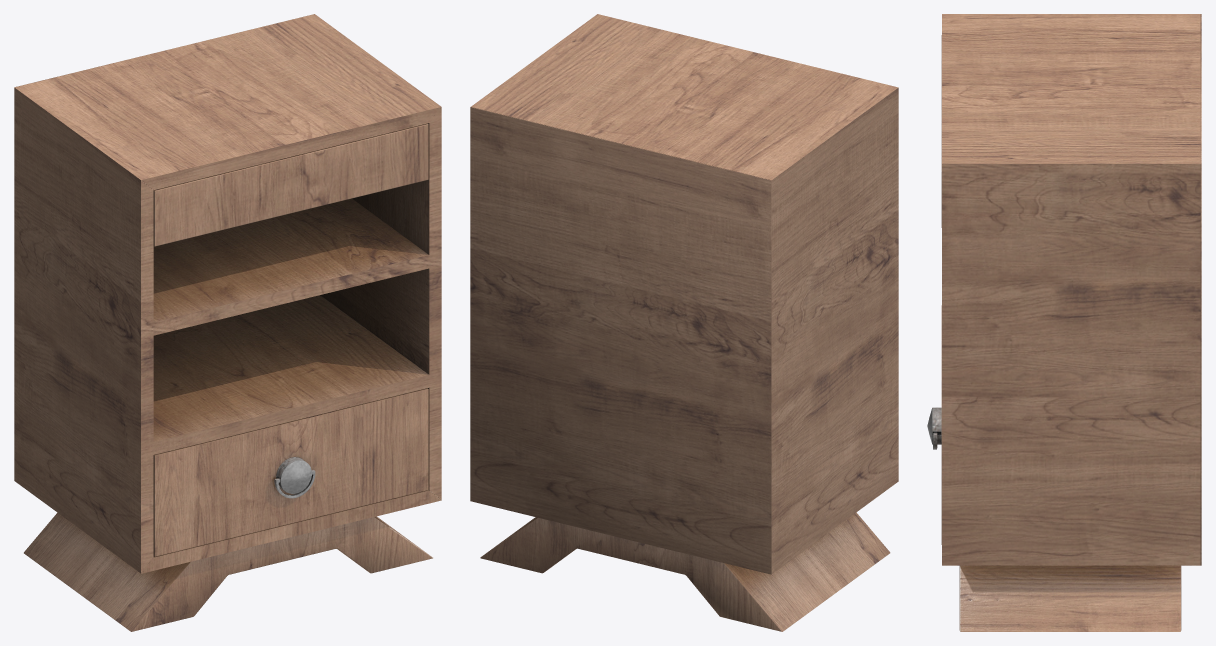
The model's file is captioning2.glb.
3 views of the same model, side by side, from view 1: azimuth 30°, elevation 25°; view 2: azimuth 150°, elevation 25°; view 3: azimuth 270°, elevation 25° (orthographic). The views are drawn at different scales.
Visible parts, largest first — view 1: Object001_Object001_mtl_0.001, Object001_Object001_mtl_0, Object001_Object001_mtl_0.002; view 2: Object001_Object001_mtl_0.002, Object001_Object001_mtl_0.001, Object001_Object001_mtl_0; view 3: Object001_Object001_mtl_0.001, Object001_Object001_mtl_0, Object001_Object001_mtl_0.002.
Part boxes in pixels (left/top/right/bottom): Object001_Object001_mtl_0.001: left=14, top=14, right=441, bottom=572; Object001_Object001_mtl_0: left=24, top=388, right=432, bottom=631; Object001_Object001_mtl_0.002: left=14, top=14, right=441, bottom=573; Object001_Object001_mtl_0.002: left=470, top=107, right=898, bottom=574; Object001_Object001_mtl_0.001: left=471, top=14, right=898, bottom=573; Object001_Object001_mtl_0: left=480, top=512, right=890, bottom=631; Object001_Object001_mtl_0.001: left=927, top=14, right=1200, bottom=564; Object001_Object001_mtl_0: left=941, top=305, right=1181, bottom=631; Object001_Object001_mtl_0.002: left=941, top=14, right=1201, bottom=565.
Size of the model in its own units: 1.46 by 2.12 by 1.13.
Materials: 3 (3 with a texture image).
